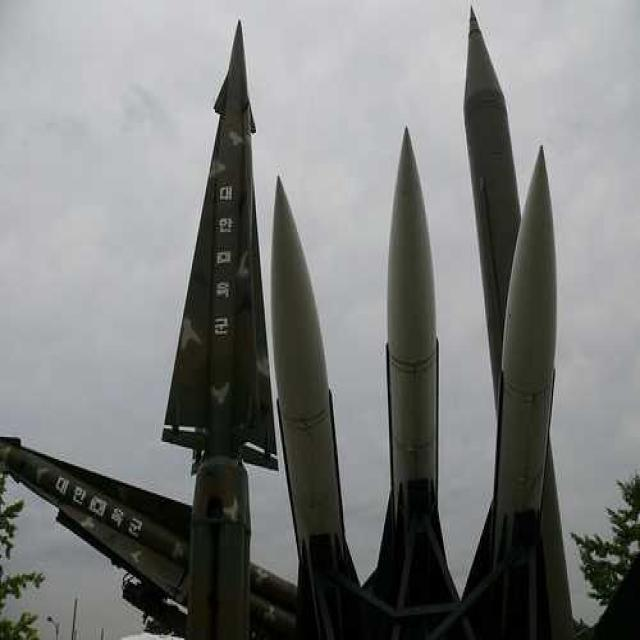missile: (158, 13, 278, 640), (3, 428, 280, 640), (266, 176, 354, 581), (379, 124, 449, 572), (496, 145, 556, 589)
